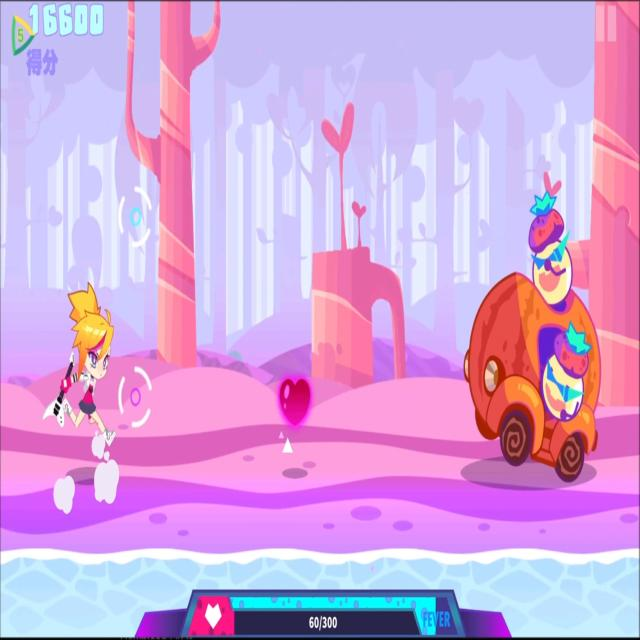cheboss: (458, 181, 604, 488)
xin: (275, 368, 316, 442)
